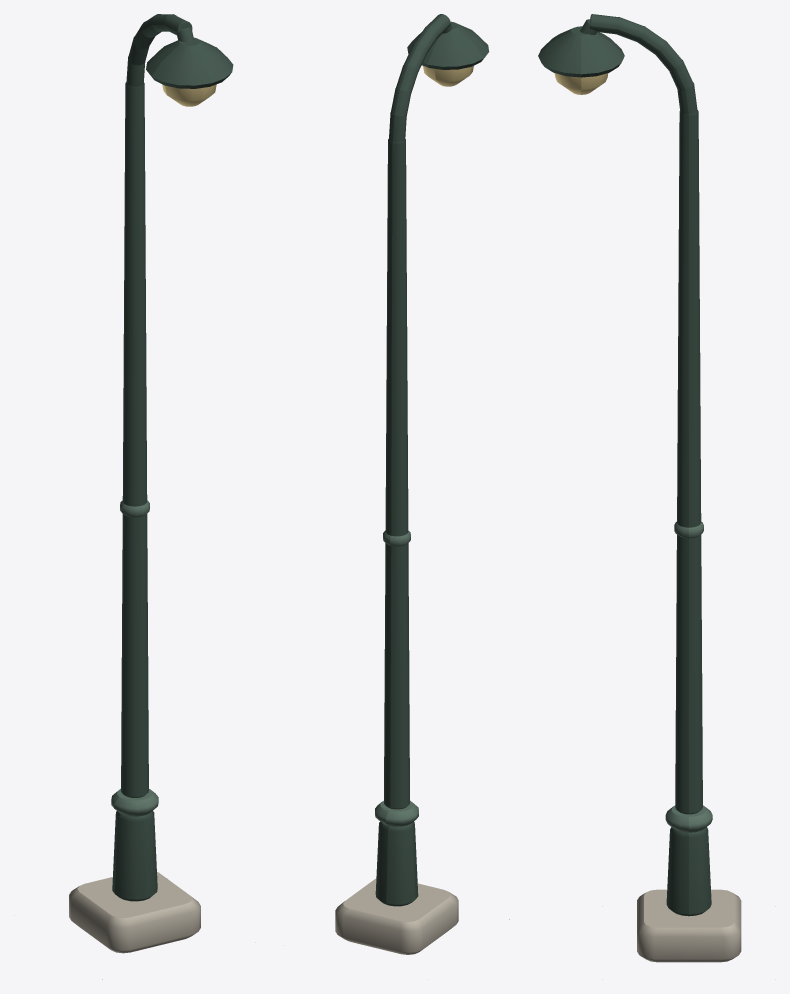
File: lampadaire.glb
3 views of the same model, side by side, from view 1: azimuth 30°, elevation 25°; view 2: azimuth 150°, elevation 25°; view 3: azimuth 270°, elevation 25° (orthographic). The views are drawn at different scales.
Parts seen in each view (by area): view 1: pieces_lampadaire.002, pieces_socle_beton.008, pieces_lampadaire_clair.002, voyant_lampe_lampe_globe.002; view 2: pieces_lampadaire.002, pieces_socle_beton.008, pieces_lampadaire_clair.002, voyant_lampe_lampe_globe.002; view 3: pieces_lampadaire.002, pieces_socle_beton.008, pieces_lampadaire_clair.002, voyant_lampe_lampe_globe.002.
Part boxes in pixels (x1,y1,x2,y2): pieces_lampadaire.002: [112, 14, 233, 901]; pieces_socle_beton.008: [69, 872, 200, 953]; pieces_lampadaire_clair.002: [111, 500, 158, 816]; voyant_lampe_lampe_globe.002: [162, 84, 216, 106]; pieces_lampadaire.002: [375, 14, 489, 906]; pieces_socle_beton.008: [335, 879, 458, 954]; pieces_lampadaire_clair.002: [375, 530, 418, 826]; voyant_lampe_lampe_globe.002: [423, 65, 473, 86]; pieces_lampadaire.002: [538, 14, 711, 916]; pieces_socle_beton.008: [637, 889, 741, 962]; pieces_lampadaire_clair.002: [665, 521, 712, 832]; voyant_lampe_lampe_globe.002: [554, 73, 608, 94].
Bounding box in the file's own units: 0.5 × 2.95 × 0.685.
